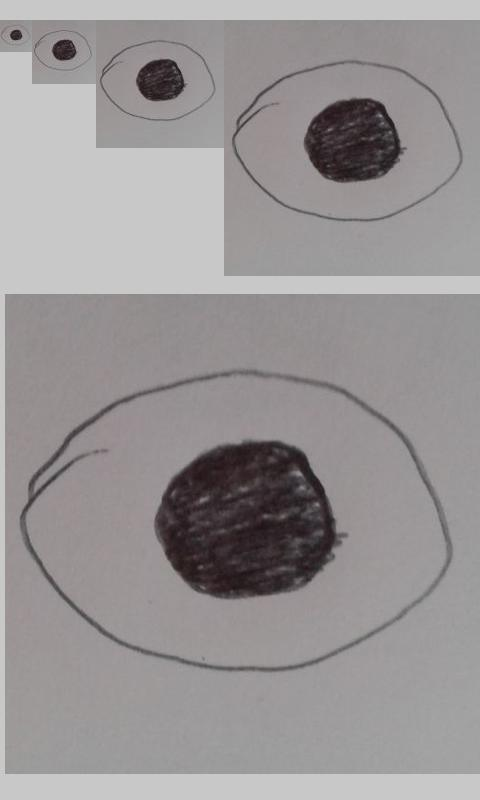radio_button: (18, 367, 454, 674), (231, 59, 464, 223), (100, 39, 216, 122), (33, 29, 93, 72), (1, 24, 31, 46)
